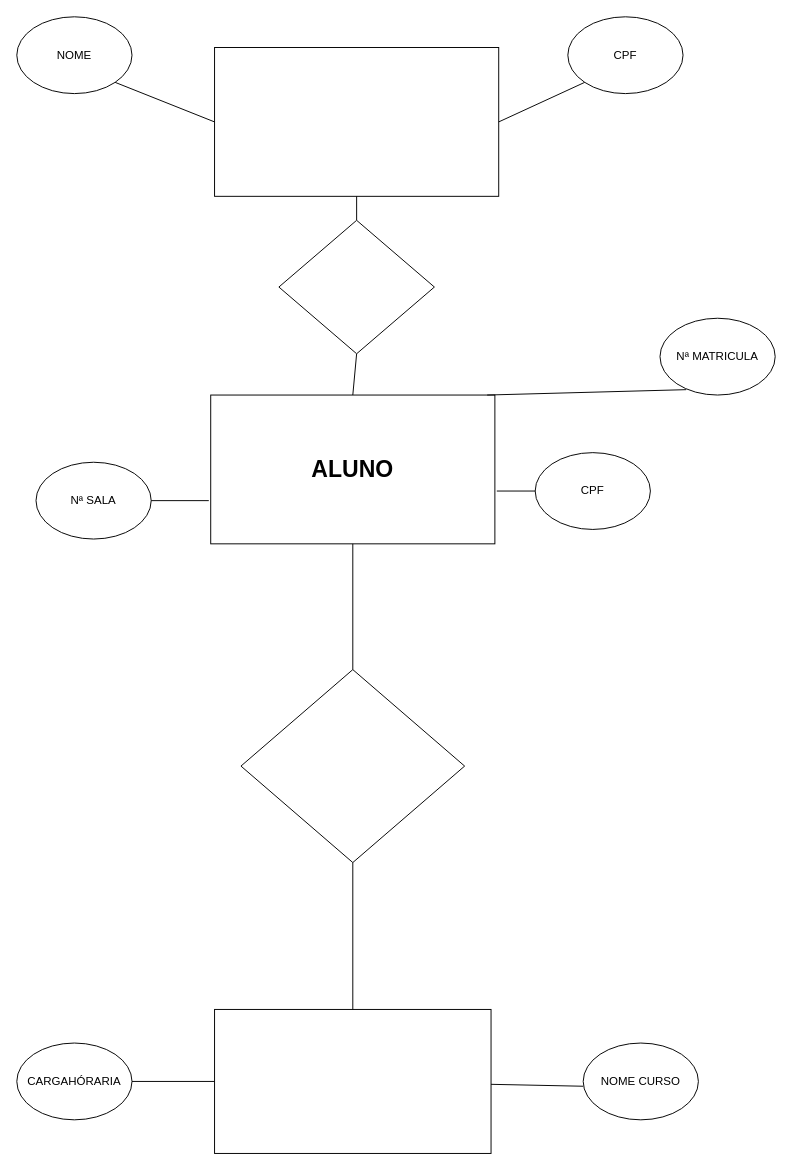
Image size: 792x1170. Some labels were removed from this diagram. The shapes that lost their labels are listed below. From the top down, each one's centre as x and y in pixels, then its label:
point (356, 121): PROFESSOR
point (356, 286): MINISTRA
point (352, 766): MATRICULA
point (352, 1080): CURSO
